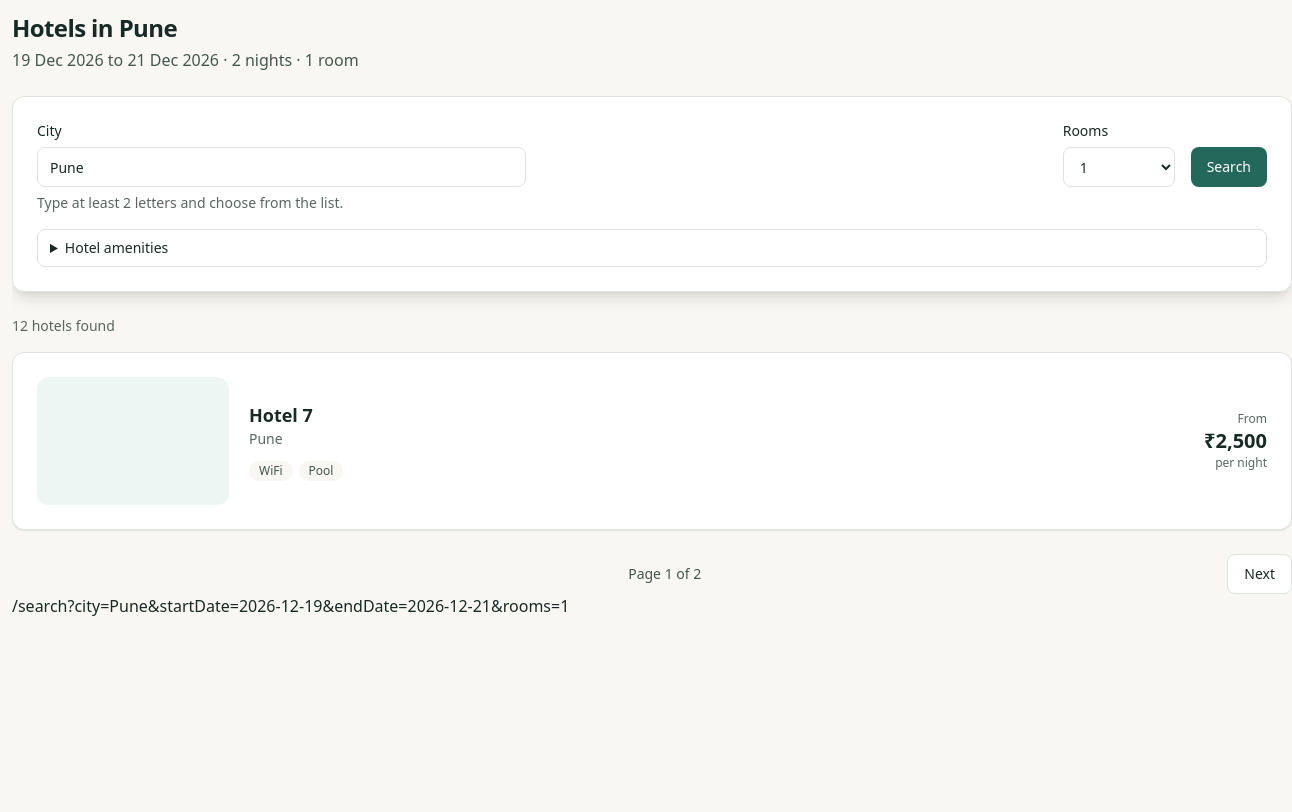
paging through results › loads the next page when Next is followed
The image size is (1292, 812).
Click the link "Next".
click(1260, 574)  # box x1=1227 y1=554 x2=1291 y2=594
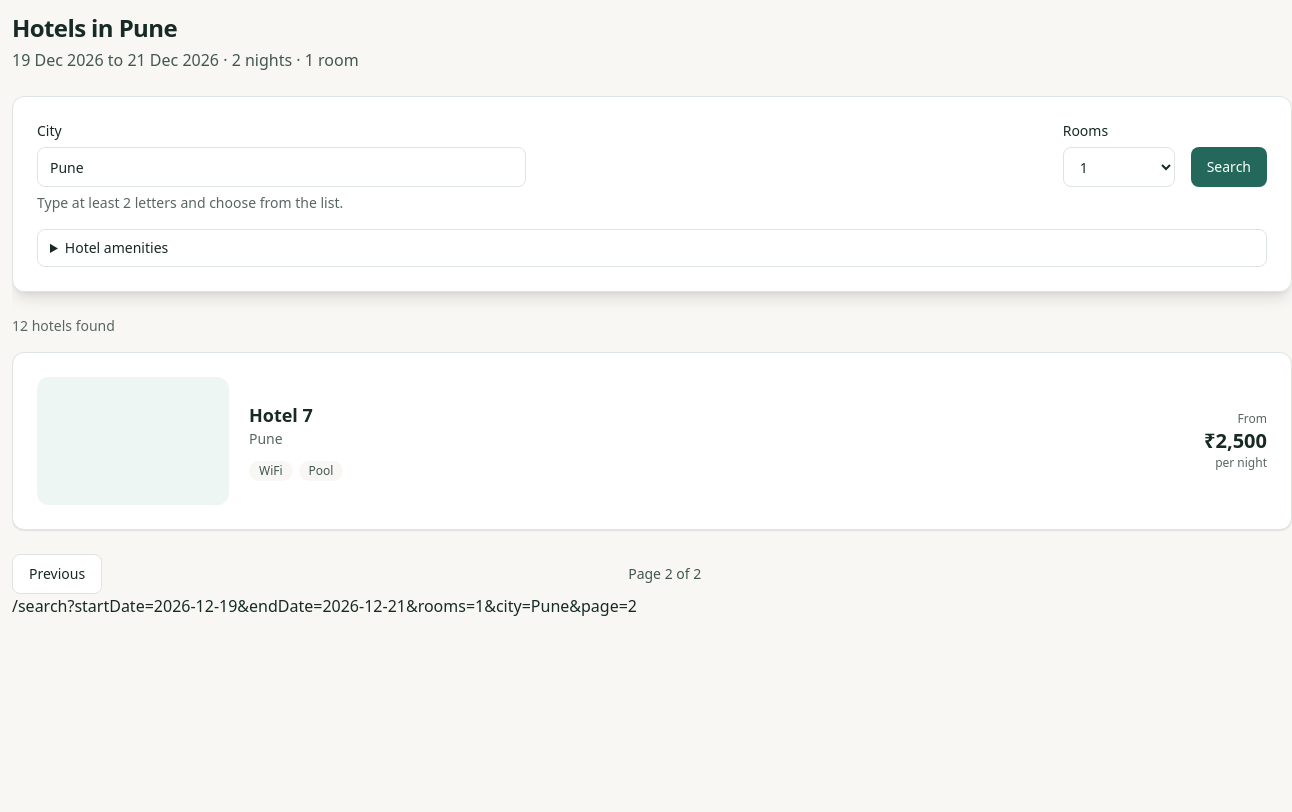
Expected: the text "Page 2 of 2" is shown, x1=628 y1=564 x2=701 y2=584
